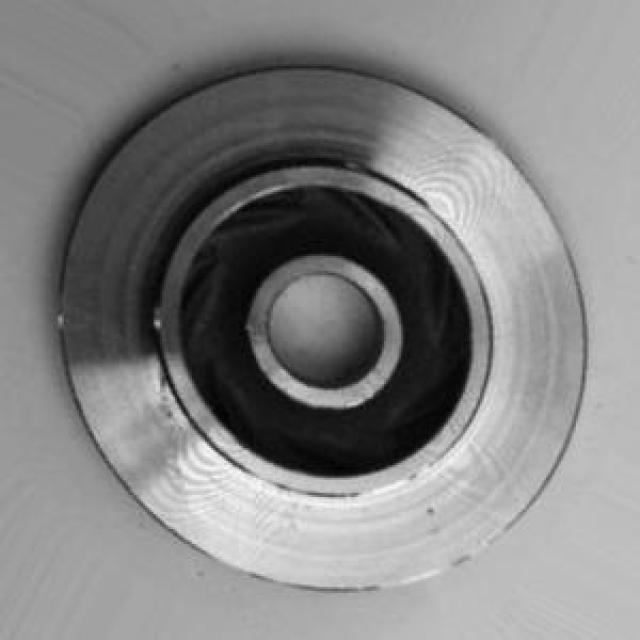Defect: (147, 360, 182, 415), (421, 499, 452, 522)
